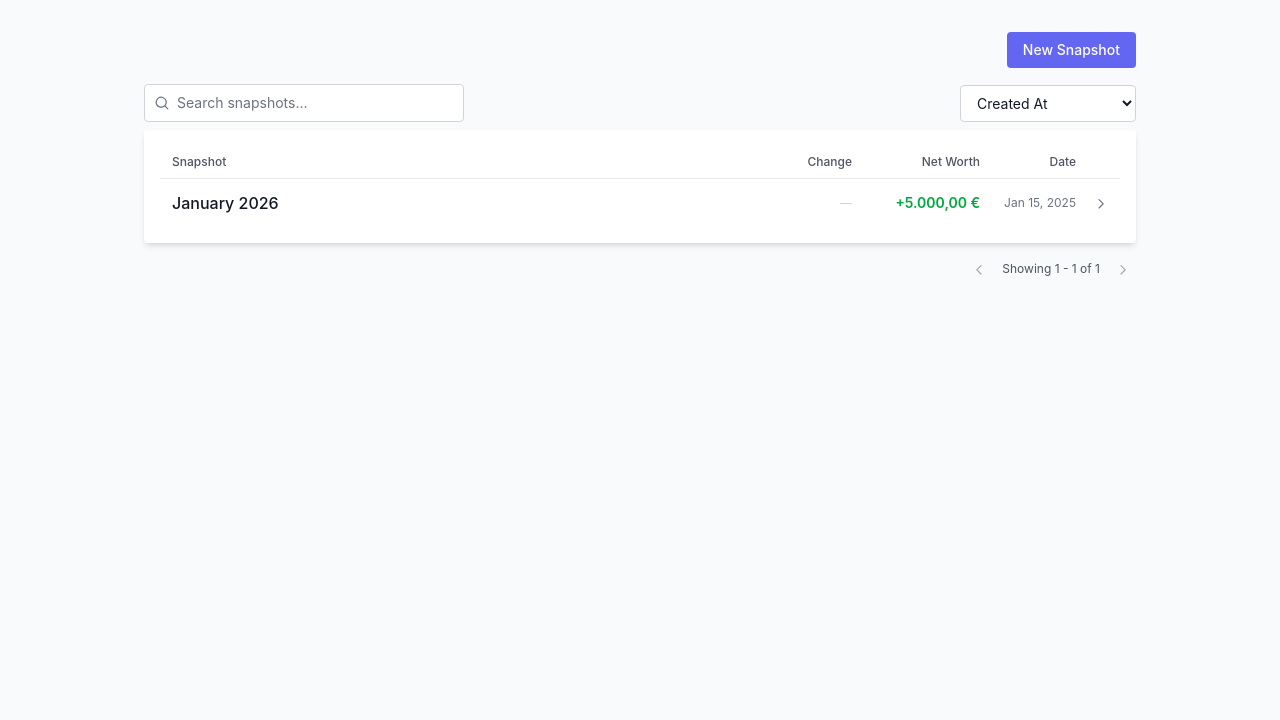
Test: NetWorth › create snapshot modal › opens modal when New Snapshot is clicked
Click the button "New Snapshot": (1071, 50) [1007,32,1136,68]
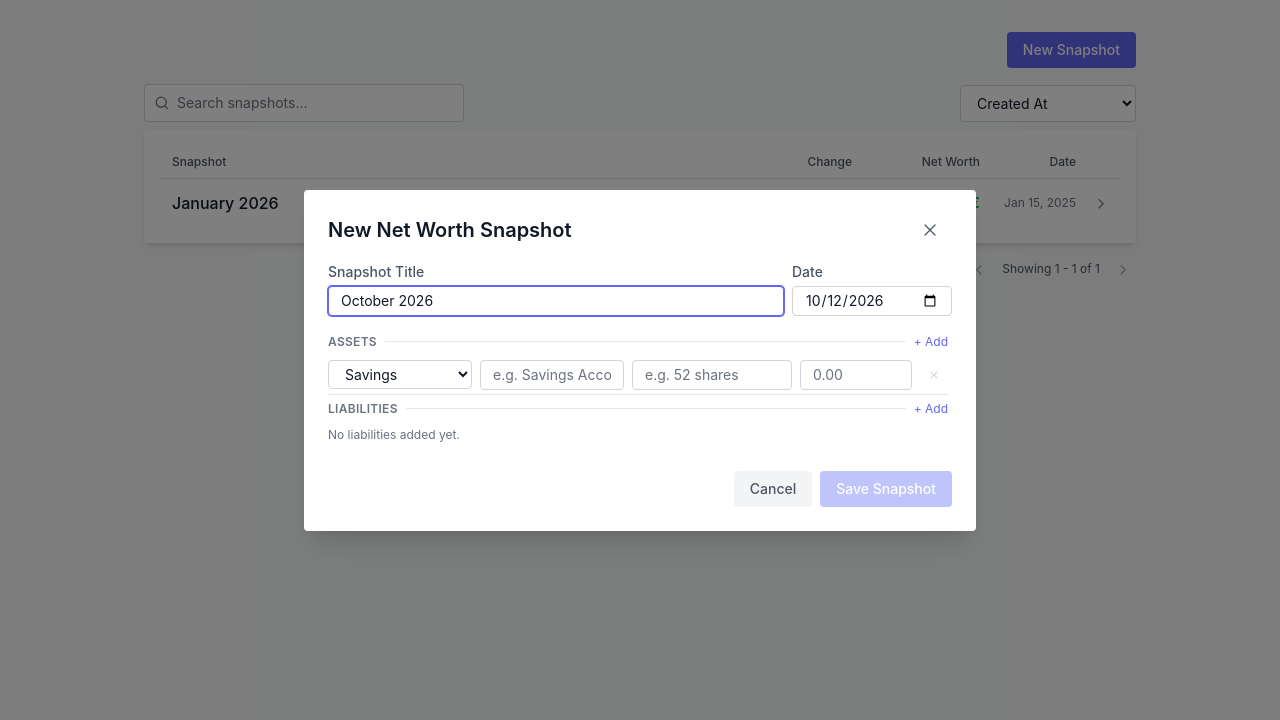
Check: the heading "New Net Worth Snapshot" is shown, box [328,216,572,244]
